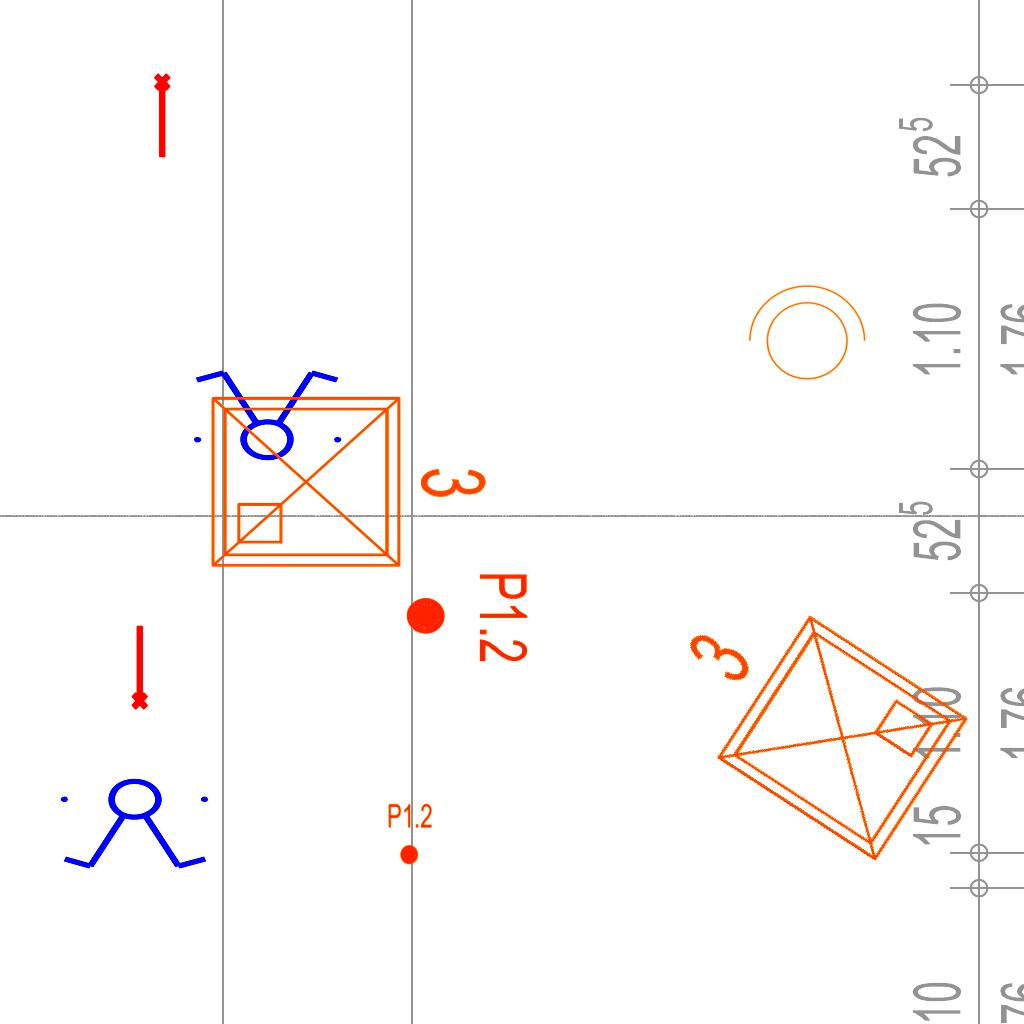ASR_Ansaugoeffnung: (127, 623, 150, 711), (152, 72, 175, 160)
Downlight_LED_Einbauleuchten_Flur: (403, 571, 531, 664), (387, 802, 433, 866)
Einbaudownlights_LED_Konferenzraeume: (623, 550, 989, 888), (197, 374, 497, 582)
Scheinwerfer_fuer_Alarmbeleuchtung: (738, 280, 870, 392)
Serienschalter: (182, 366, 350, 462), (52, 777, 220, 873)
